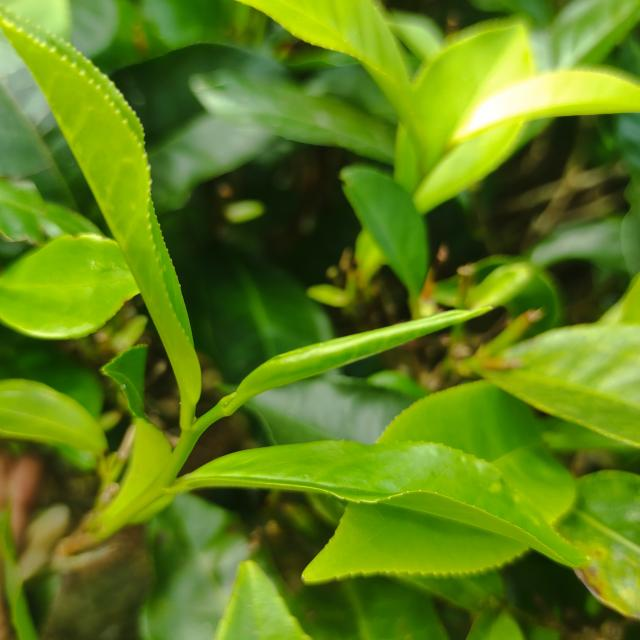unopened_leaf: (208, 301, 503, 429)
